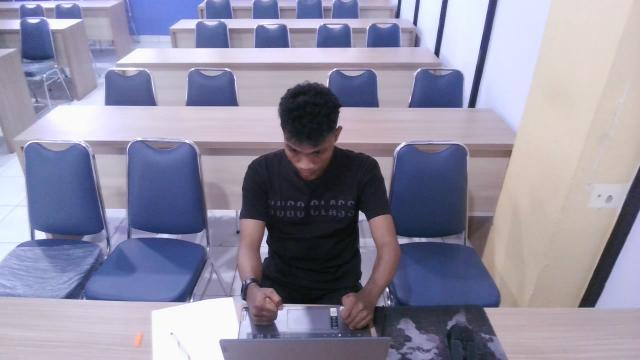Head_Down_Extreme: (233, 68, 392, 226)
